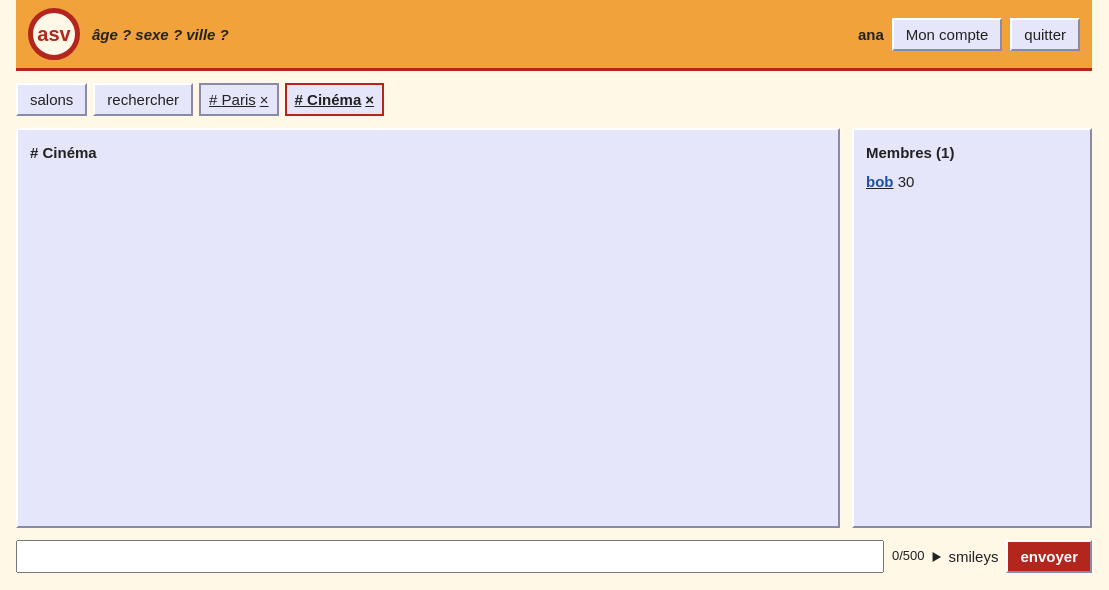
room screen › shows tabs, marks the active one and switches on click
Click the button "# Paris" at (232, 100), box [207,87,258,112]
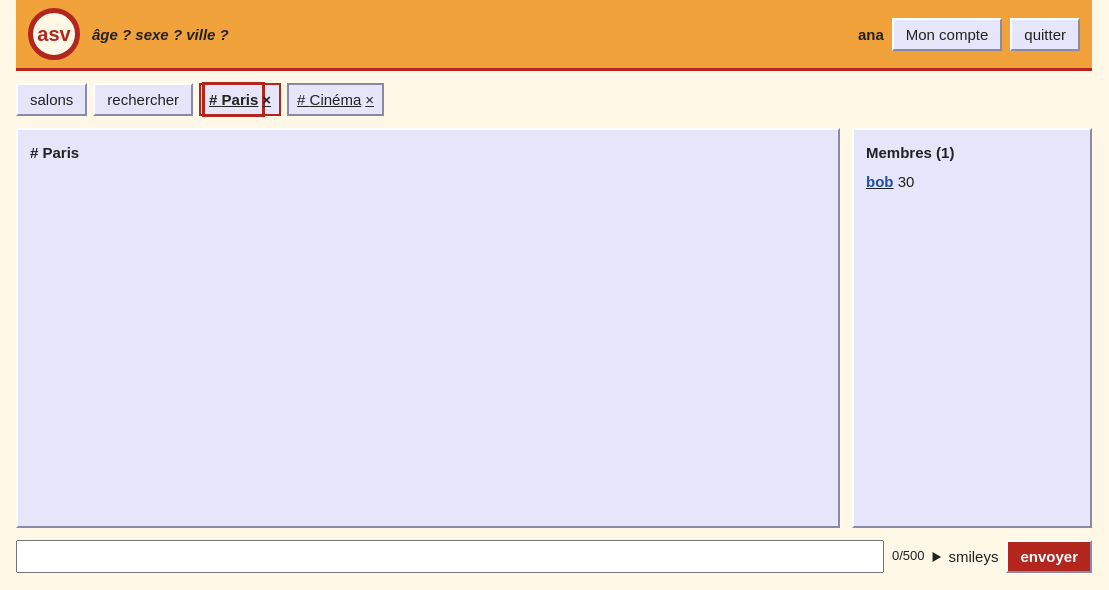
Result: the heading "# Paris" is shown at [30,144,79,161]
